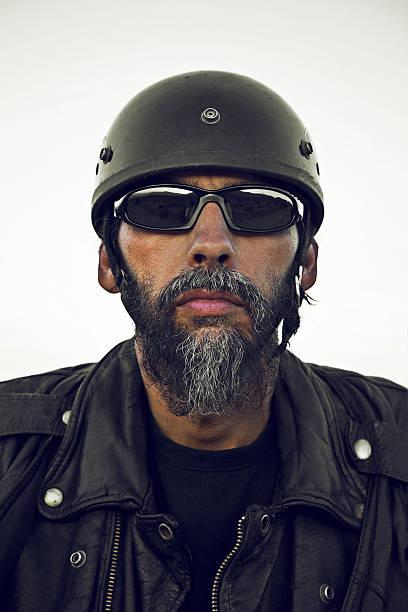helmet: (91, 69, 331, 444)
